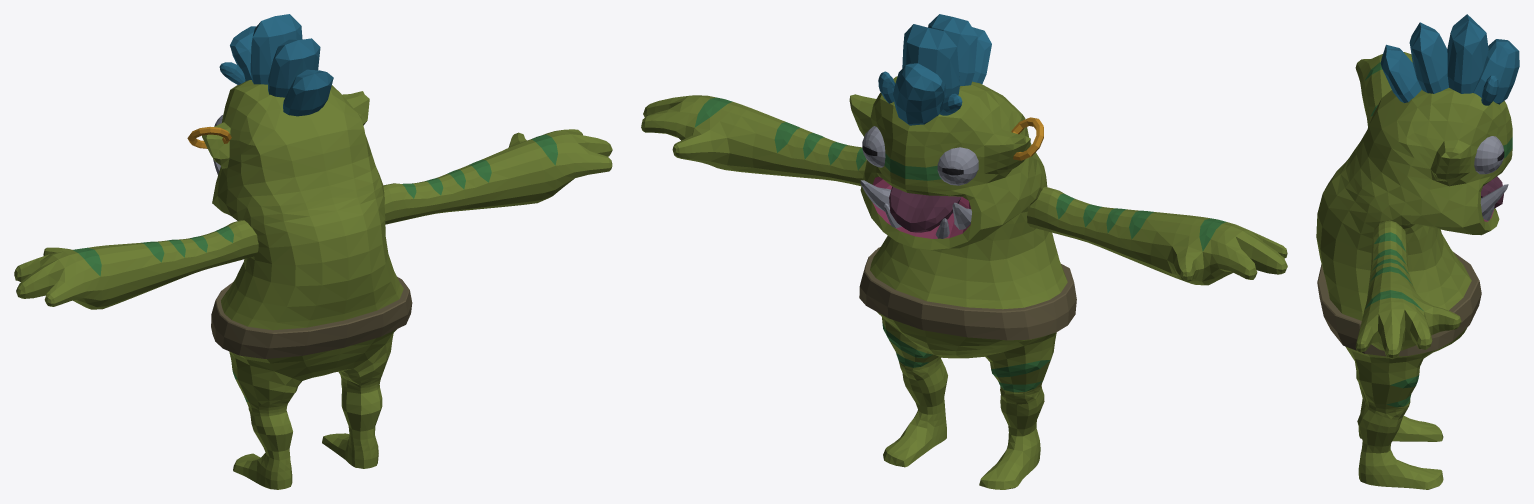
Rendered from Orc.ready.glb.
3 views of the same model, side by side, from view 1: azimuth 30°, elevation 25°; view 2: azimuth 150°, elevation 25°; view 3: azimuth 270°, elevation 25° (orthographic). The views are drawn at different scales.
Parts seen in each view (by area): view 1: Orc; view 2: Orc; view 3: Orc.
Part boxes in pixels (<box>): Orc: <box>14,14,612,489</box>; Orc: <box>641,14,1287,489</box>; Orc: <box>1316,14,1519,489</box>.
Size of the model in its own units: 4.68 by 3.21 by 1.35.
Materials: 1 (1 with a texture image).
